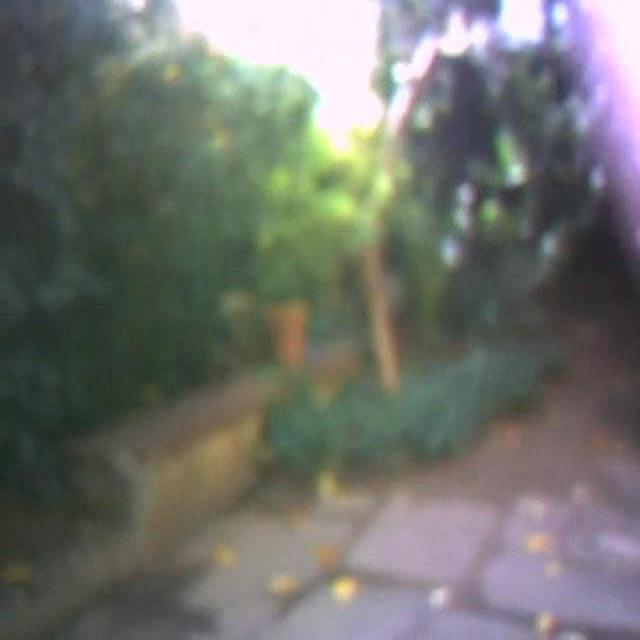other: (158, 5, 534, 152)
